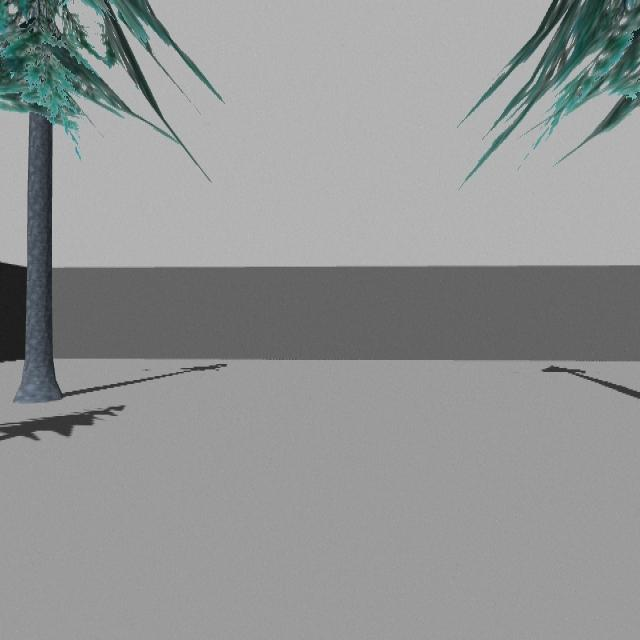tree: (469, 0, 640, 175)
